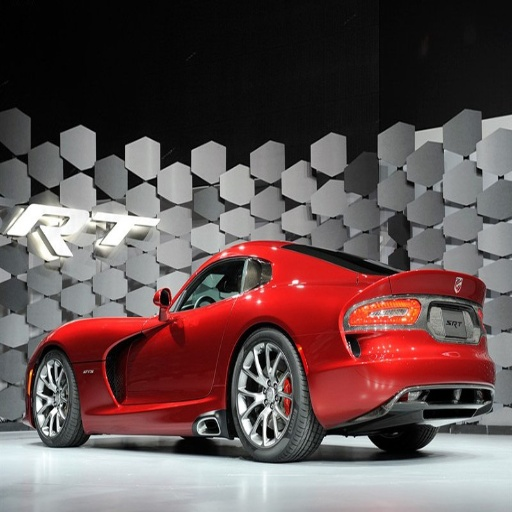back_bumper: (307, 334, 494, 425)
back_glass: (309, 231, 381, 270)
back_left_door: (209, 253, 261, 380)
trunk: (392, 306, 468, 345)
